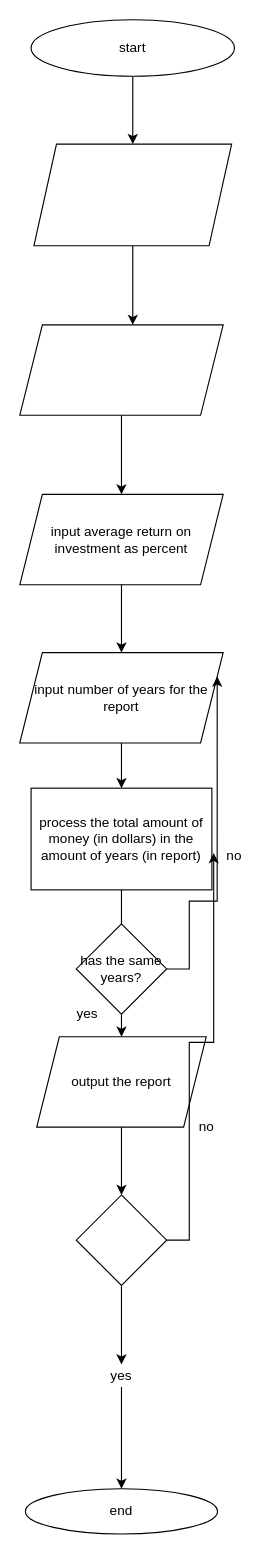
This 277x1554 diagram has some shape labels left out. The shapes that lost their labels are listed below. From the top down, each one's centre as x and y in pixels, then its label:
At pixel 132 194: "get the starting balance in dollars".
At pixel 121 369: "input yearly contribution in dollars".
At pixel 121 1239: "years met?".
